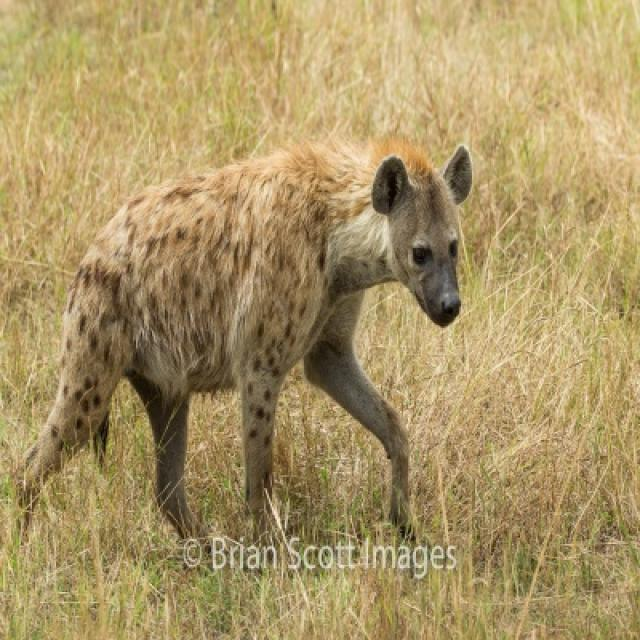hyena: (26, 138, 474, 546)
